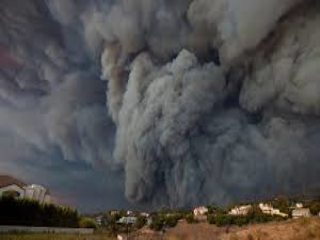smoke: (62, 24, 310, 210)
